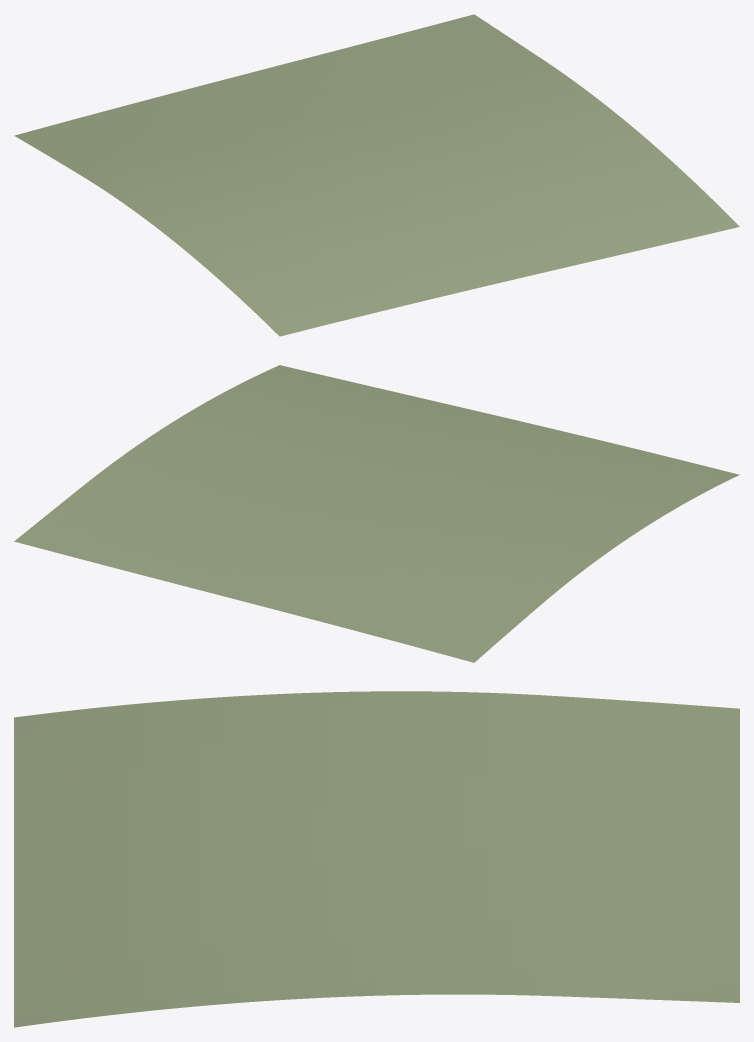
File: expanse-27-17.glb
3 renders of one model, top to bottom at view 1: azimuth 30°, elevation 25°; view 2: azimuth 150°, elevation 25°; view 3: azimuth 270°, elevation 25°, orthographic. The views are drawn at different scales.
Parts seen in each view (by area): view 1: expanse-27-17; view 2: expanse-27-17; view 3: expanse-27-17.
Part boxes in pixels (bbox=[...]): expanse-27-17: bbox=[14, 14, 739, 336]; expanse-27-17: bbox=[14, 365, 739, 662]; expanse-27-17: bbox=[14, 691, 739, 1027].
Bounding box in the file's own units: 256 × 12.88 × 256.
